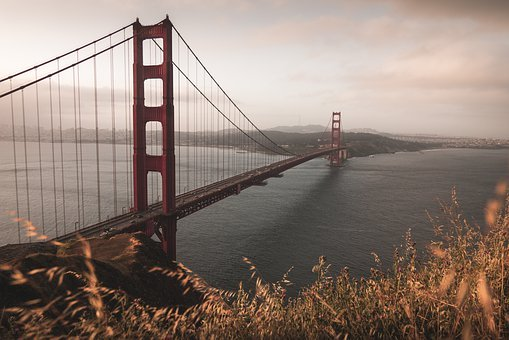sea: (168, 140, 502, 266)
sky: (1, 2, 509, 134)
